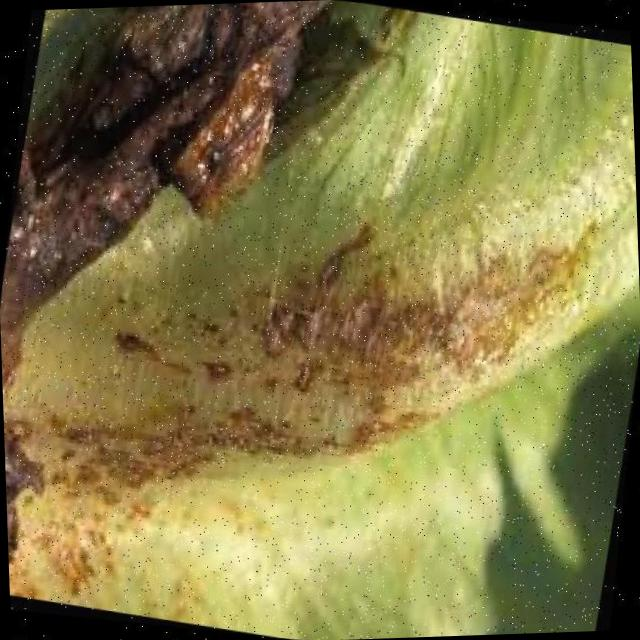Septoria_Blight: (116, 126, 477, 545)
